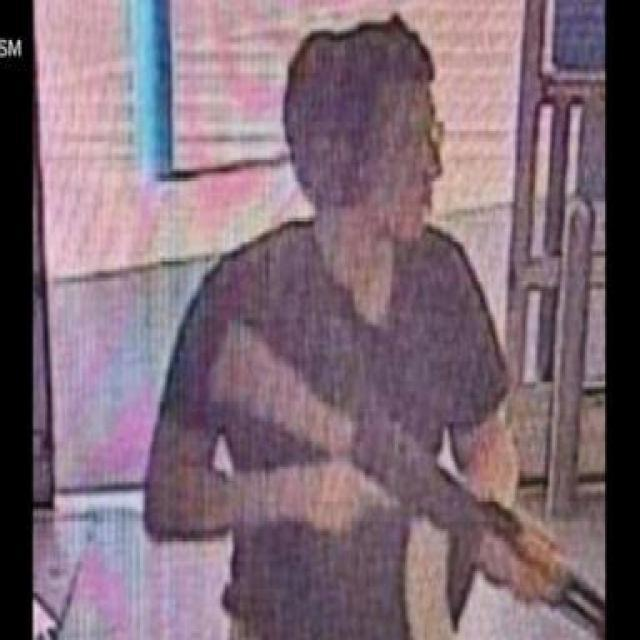gun: (209, 318, 603, 638)
